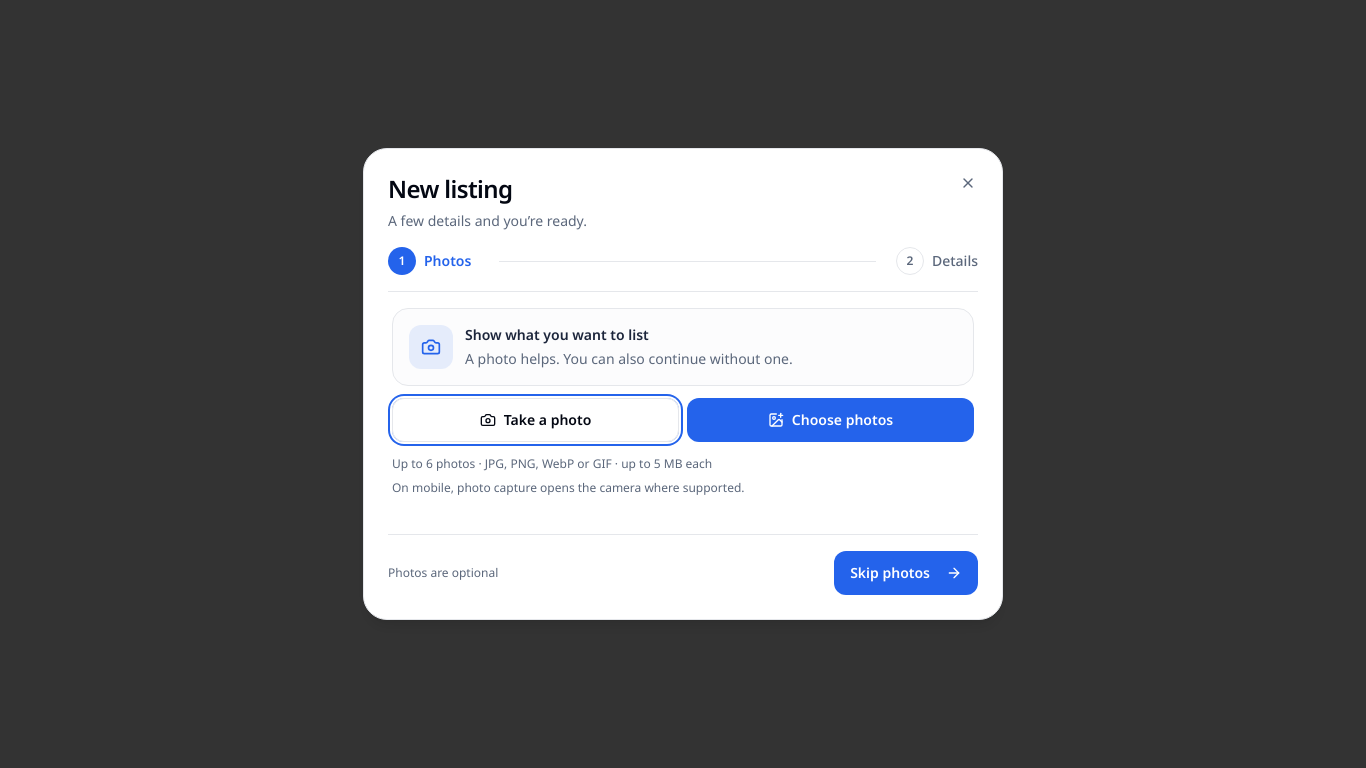
it: reviewing an automatically extracted listing draft › preserves the request intent, search text and chosen location instead of replacing them with inferred offers
Click the button "Skip photos" at (906, 573), box x1=834 y1=551 x2=978 y2=595
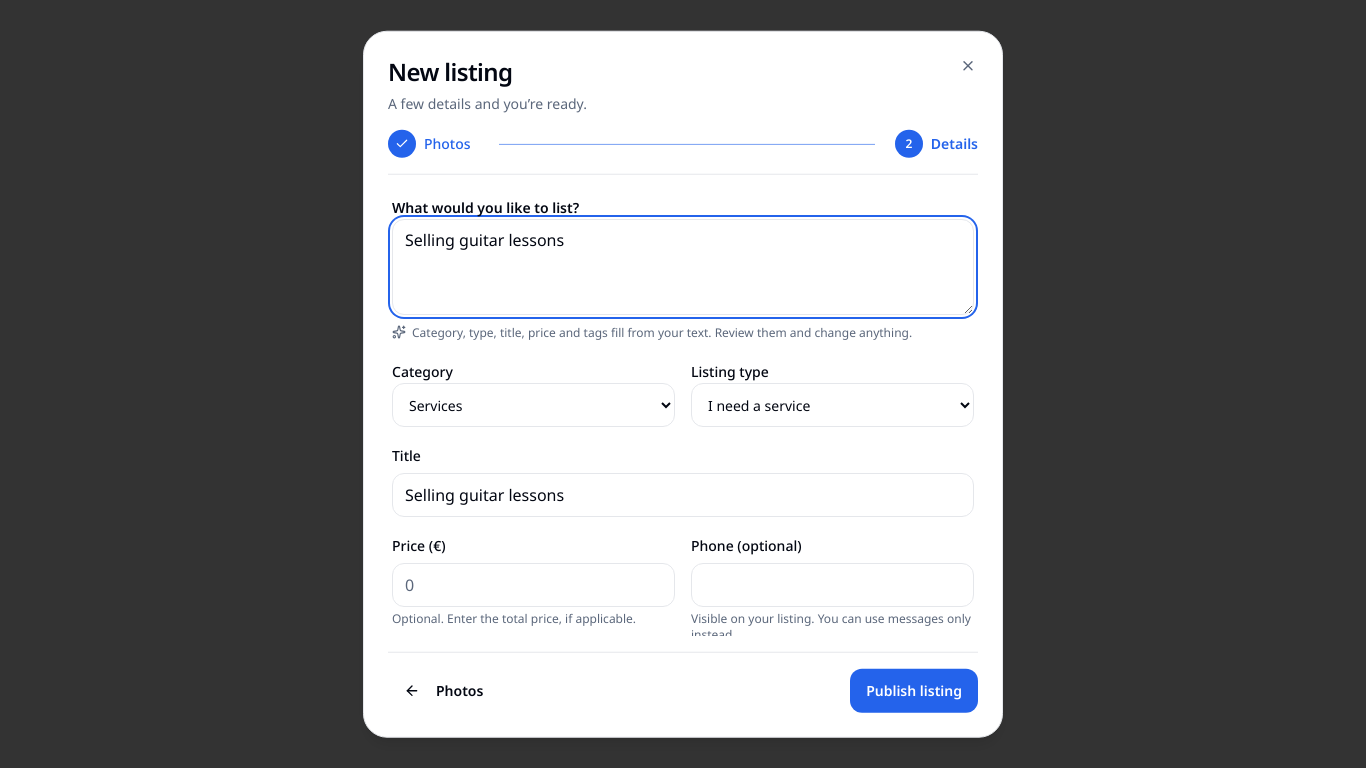
Expected: the button "Publish listing" is enabled, x1=850 y1=668 x2=978 y2=712
Expected: the text box labelled "What would you like to list?" holds "Selling guitar lessons", x1=392 y1=219 x2=974 y2=315
Expected: the field labelled "Title" holds "Selling guitar lessons", x1=392 y1=473 x2=974 y2=517
Select "Items" in the dropdown labelled "Category" at (534, 405), box x1=392 y1=383 x2=675 y2=427
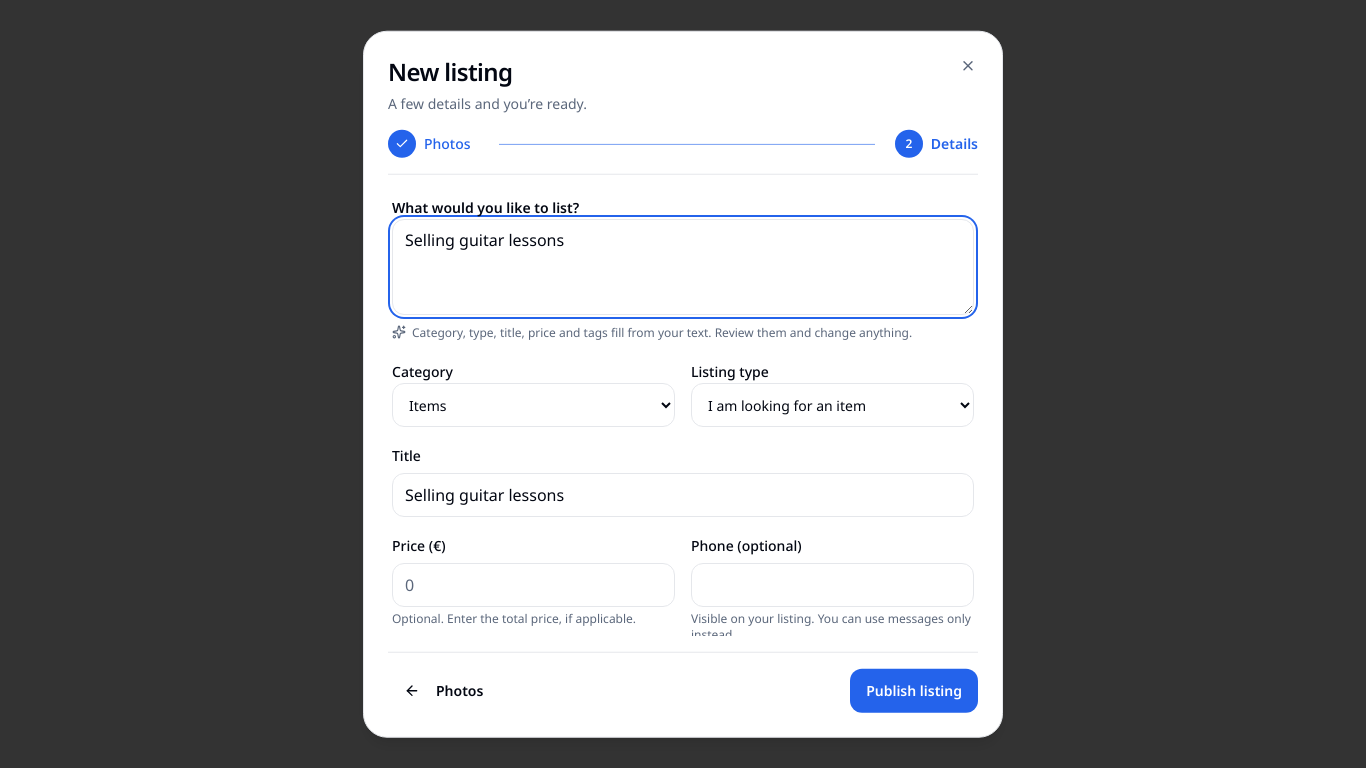
Expected: the dropdown labelled "Listing type" shows "I am looking for an item", x1=691 y1=383 x2=974 y2=427
